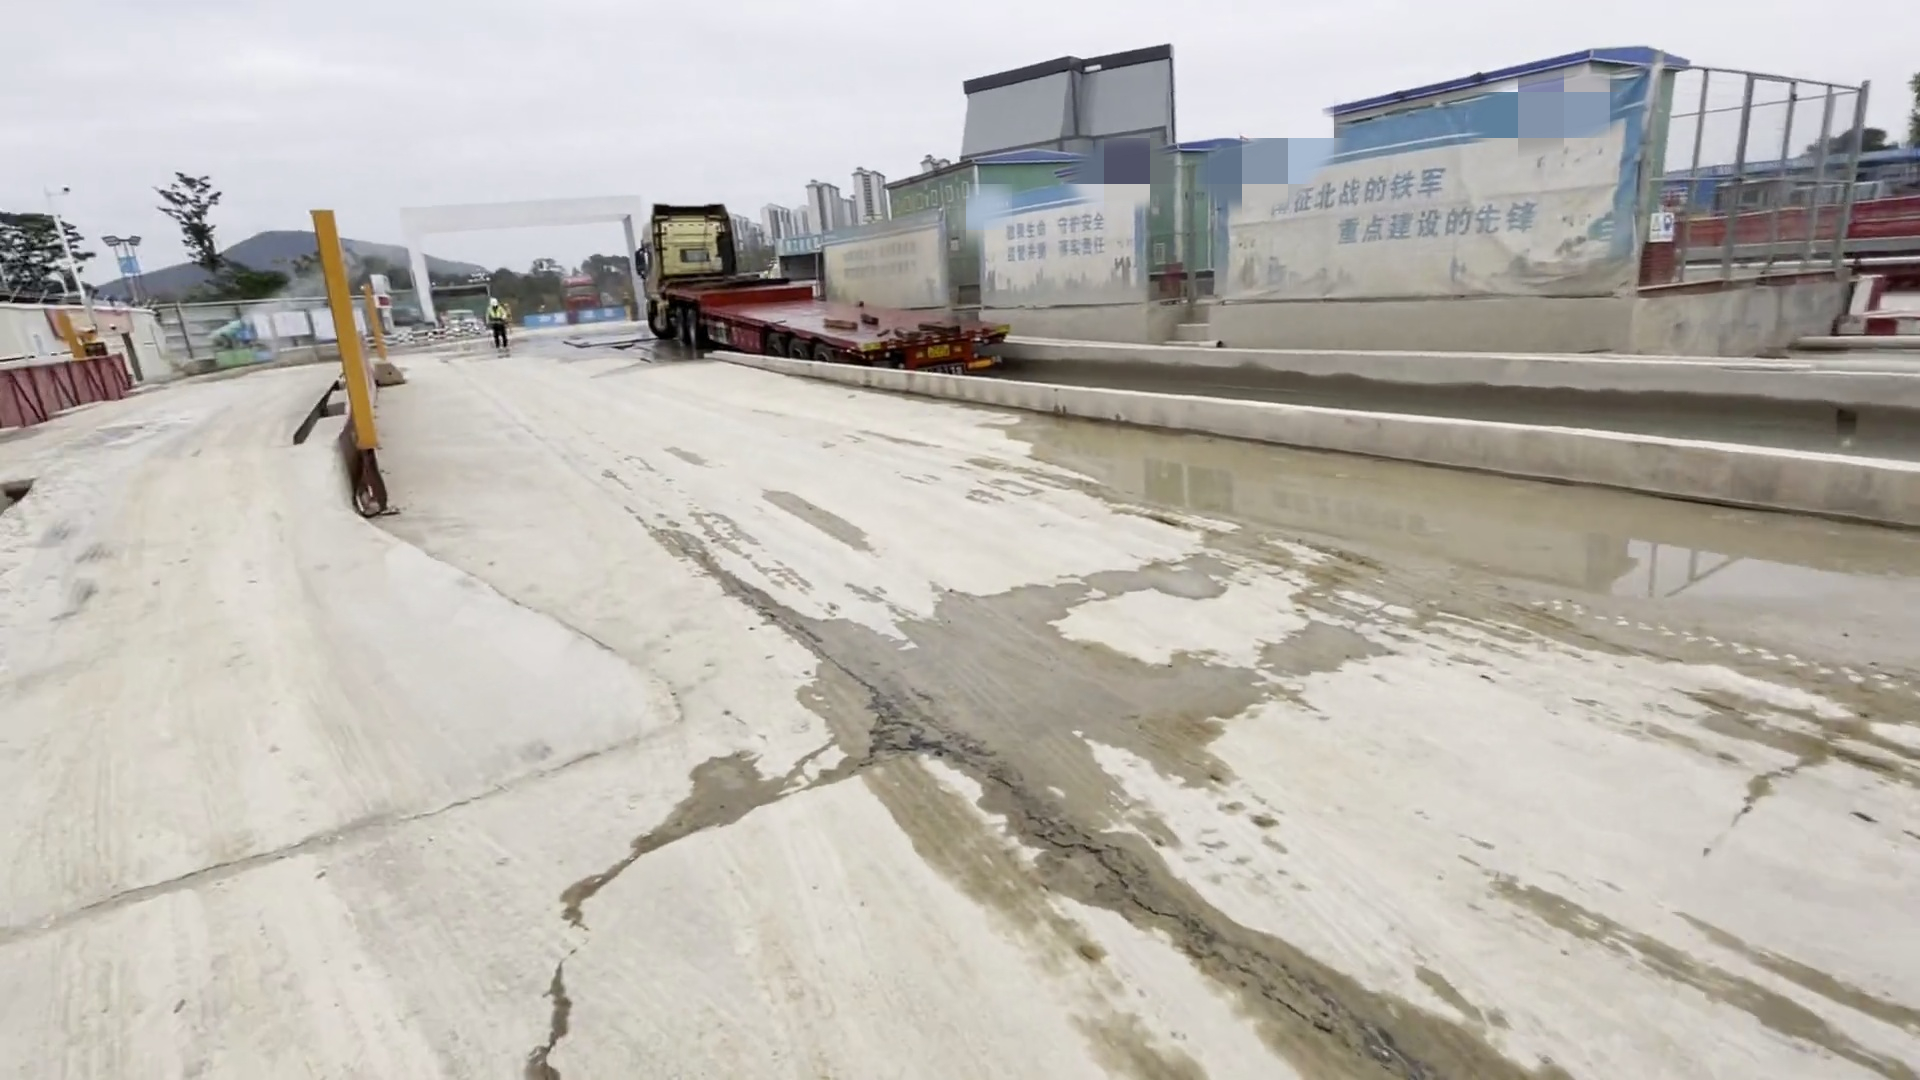slogan: (791, 142, 1643, 320)
